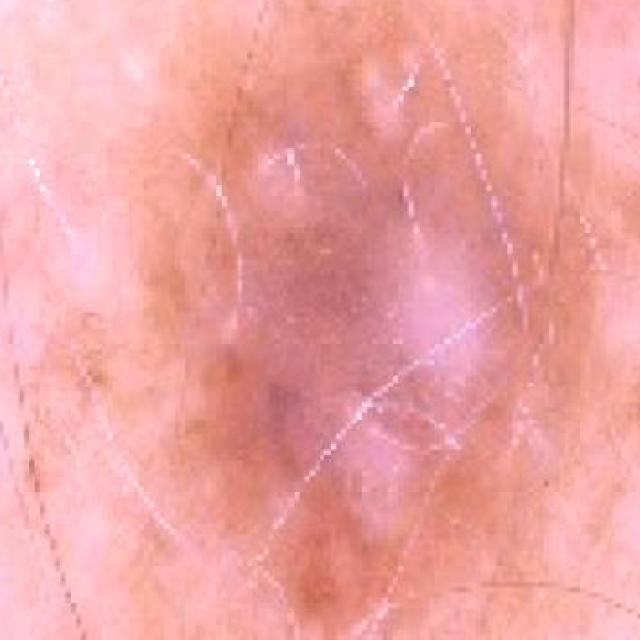DF: (94, 0, 611, 640)
